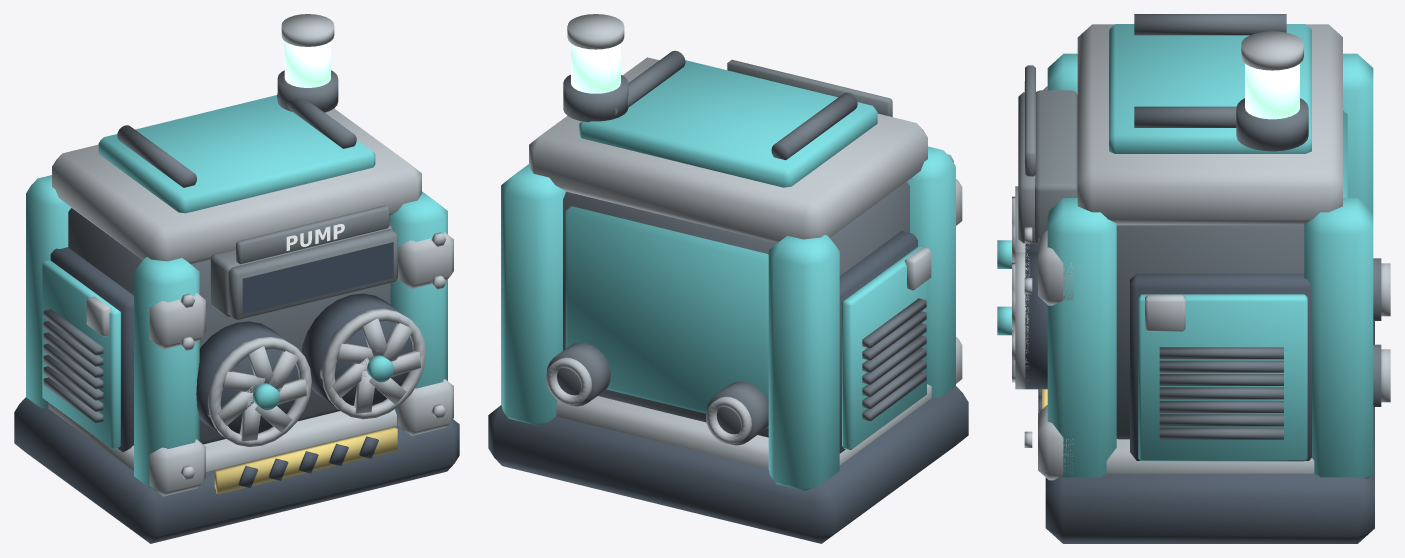
Rendered from pump_enhanced.glb.
The picture shows the model from 3 angles, left to right: view 1: azimuth 30°, elevation 25°; view 2: azimuth 150°, elevation 25°; view 3: azimuth 270°, elevation 25°; orthographic projection. The views are drawn at different scales.
Parts seen in each view (by area): view 1: Frame_cyan_legacy_4, Base_black_legacy_0, TopCap_steel_legacy_10, RoofPanel_cyan_legacy_11, CornerGuard_steel_legacy_5, FanBlade_steel_legacy_15, Fan_black_legacy_13, Housing_dark_legacy_2, FanGuard_steel_legacy_14, ServiceDoor_cyan_legacy_7, LiveViewSurface_glass, Skirt_steel_legacy_1 (+15 smaller); view 2: Frame_cyan_legacy_4, Armor_cyan_legacy_3, Base_black_legacy_0, TopCap_steel_legacy_10, RoofPanel_cyan_legacy_11, Housing_dark_legacy_2, ServiceDoor_cyan_legacy_7, Skirt_steel_legacy_1, SideVents_dark_legacy_8, RearPort_dark_legacy_26, LiftRail_dark_legacy_12, SidePanel_black_legacy_6 (+7 smaller); view 3: Frame_cyan_legacy_4, TopCap_steel_legacy_10, Base_black_legacy_0, ServiceDoor_cyan_legacy_7, RoofPanel_cyan_legacy_11, Housing_dark_legacy_2, SideVents_dark_legacy_8, SidePanel_black_legacy_6, LiftRail_dark_legacy_12, ScreenMount_frame, CornerGuard_steel_legacy_5, Skirt_steel_legacy_1 (+12 smaller).
Part boxes in pixels (left/top/right/bottom): Frame_cyan_legacy_4: left=26, top=175, right=447, bottom=491; Base_black_legacy_0: left=14, top=397, right=459, bottom=543; TopCap_steel_legacy_10: left=52, top=108, right=421, bottom=264; RoofPanel_cyan_legacy_11: left=98, top=95, right=375, bottom=213; CornerGuard_steel_legacy_5: left=146, top=232, right=453, bottom=496; FanBlade_steel_legacy_15: left=218, top=318, right=420, bottom=441; Fan_black_legacy_13: left=196, top=293, right=412, bottom=434; Housing_dark_legacy_2: left=68, top=208, right=390, bottom=444; FanGuard_steel_legacy_14: left=207, top=307, right=425, bottom=446; ServiceDoor_cyan_legacy_7: left=42, top=260, right=120, bottom=449; LiveViewSurface_glass: left=242, top=242, right=393, bottom=314; Skirt_steel_legacy_1: left=48, top=402, right=396, bottom=471; Frame_cyan_legacy_4: left=501, top=146, right=955, bottom=490; Armor_cyan_legacy_3: left=565, top=206, right=768, bottom=428; Base_black_legacy_0: left=488, top=386, right=968, bottom=543; TopCap_steel_legacy_10: left=529, top=57, right=927, bottom=242; RoofPanel_cyan_legacy_11: left=579, top=60, right=877, bottom=187; Housing_dark_legacy_2: left=563, top=182, right=909, bottom=437; ServiceDoor_cyan_legacy_7: left=842, top=246, right=926, bottom=450; Skirt_steel_legacy_1: left=556, top=384, right=931, bottom=468; SideVents_dark_legacy_8: left=862, top=298, right=926, bottom=421; RearPort_dark_legacy_26: left=547, top=342, right=768, bottom=445; LiftRail_dark_legacy_12: left=615, top=50, right=857, bottom=160; SidePanel_black_legacy_6: left=839, top=231, right=917, bottom=453; Frame_cyan_legacy_4: left=1047, top=53, right=1373, bottom=478; TopCap_steel_legacy_10: left=1077, top=24, right=1342, bottom=225; Base_black_legacy_0: left=1045, top=321, right=1374, bottom=543; ServiceDoor_cyan_legacy_7: left=1138, top=294, right=1307, bottom=461; RoofPanel_cyan_legacy_11: left=1109, top=24, right=1311, bottom=153; Housing_dark_legacy_2: left=1116, top=225, right=1304, bottom=439; SideVents_dark_legacy_8: left=1159, top=347, right=1283, bottom=439; SidePanel_black_legacy_6: left=1130, top=273, right=1311, bottom=460; LiftRail_dark_legacy_12: left=1134, top=14, right=1286, bottom=127; ScreenMount_frame: left=1035, top=90, right=1077, bottom=244; CornerGuard_steel_legacy_5: left=1038, top=86, right=1073, bottom=480; Skirt_steel_legacy_1: left=1106, top=439, right=1314, bottom=473.
Size of the model in its own units: 1.43 by 1.65 by 1.25.
